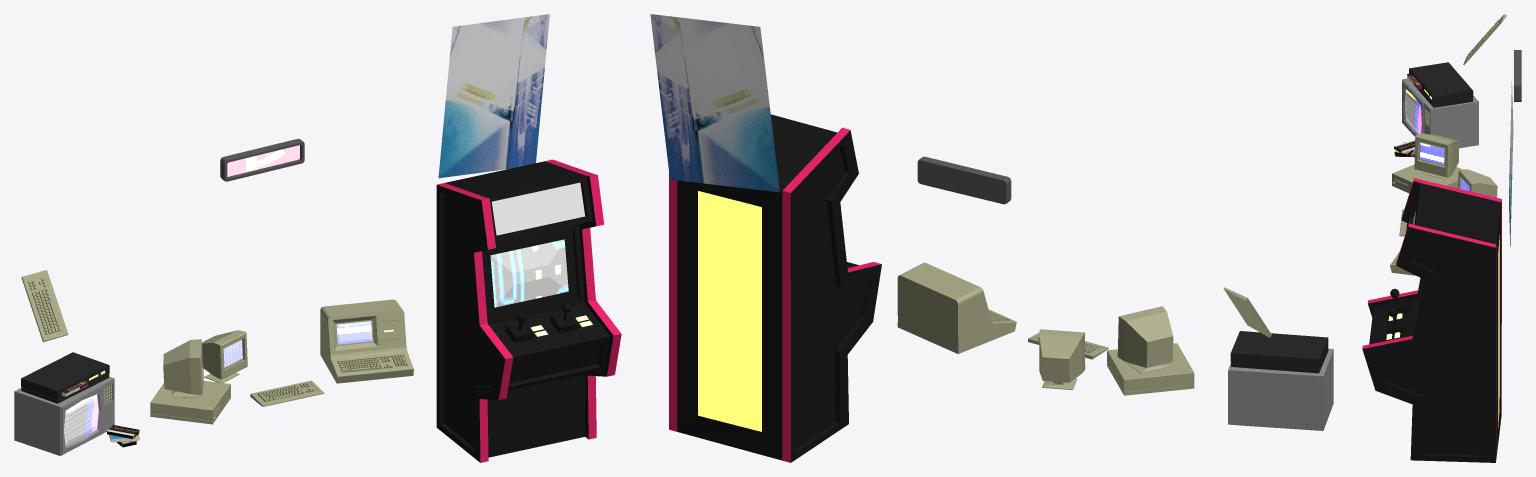
The model's file is bake2.glb.
3 renders of one model, left to right at view 1: azimuth 30°, elevation 25°; view 2: azimuth 150°, elevation 25°; view 3: azimuth 270°, elevation 25°, orthographic. The views are drawn at different scales.
Parts seen in each view (by area): view 1: BezierCurve.001, Plane.013, Vert.001, TV, Cube.154, Cube.006, Cube.096, Cube.083, Cube.014, Keyboard.001, TV.001, Keyboard; view 2: BezierCurve.001, Plane.013, Vert.001, TV, Cube.154, Cube.083, Cube.096, Cube.014, Cube.006, Keyboard.001; view 3: BezierCurve.001, TV, Cube.154, Cube.083, Cube.006, Cube.014, TV.001, Plane.013, Cube.096, BezierCurve.005, BezierCurve.002, Cube.093 (+1 smaller).
Boxes of the visible parts, box(x1,y1,x2,y2) form: BezierCurve.001: box(436, 159, 621, 462); Plane.013: box(438, 14, 549, 178); Vert.001: box(320, 299, 413, 383); TV: box(14, 376, 114, 455); Cube.154: box(21, 352, 109, 403); Cube.006: box(150, 380, 230, 424); Cube.096: box(220, 138, 304, 181); Cube.083: box(163, 339, 203, 397); Cube.014: box(202, 330, 247, 382); Keyboard.001: box(21, 270, 68, 342); TV.001: box(64, 394, 98, 445); Keyboard: box(250, 380, 324, 406); BezierCurve.001: box(669, 114, 881, 462); Plane.013: box(650, 14, 779, 192); Vert.001: box(897, 262, 1016, 353); TV: box(1228, 348, 1333, 430); Cube.154: box(1230, 331, 1328, 373); Cube.083: box(1117, 306, 1173, 373); Cube.096: box(917, 156, 1011, 204); Cube.014: box(1039, 329, 1085, 389); Cube.006: box(1107, 343, 1194, 395); Keyboard.001: box(1223, 287, 1271, 337); BezierCurve.001: box(1362, 178, 1501, 462); TV: box(1402, 78, 1478, 148); Cube.154: box(1409, 62, 1473, 107); Cube.083: box(1414, 133, 1459, 179); Cube.006: box(1392, 164, 1462, 193); Cube.014: box(1458, 169, 1497, 197); TV.001: box(1405, 89, 1421, 133); Plane.013: box(1509, 81, 1513, 246); Cube.096: box(1514, 50, 1521, 101); BezierCurve.005: box(1386, 317, 1407, 334); BezierCurve.002: box(1388, 299, 1409, 315); Cube.093: box(1394, 139, 1414, 153).
Size of the model in its own units: 8.26 by 5.41 by 2.25.
Materials: 14 (2 with a texture image).
